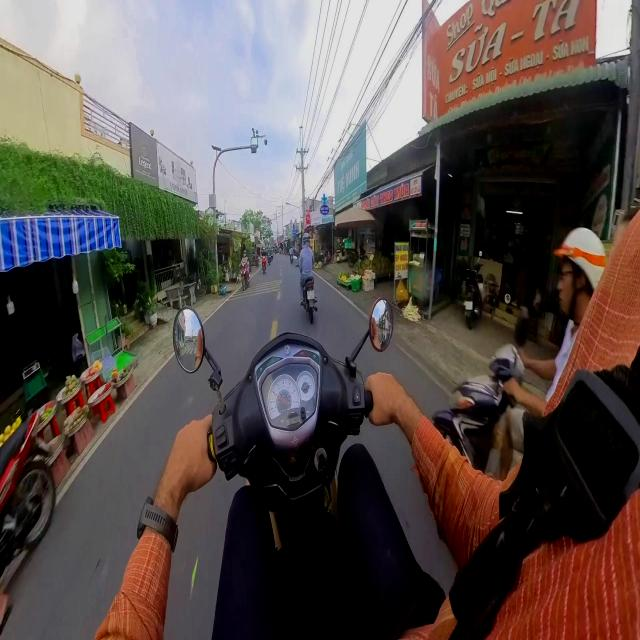motorcycle: (174, 299, 392, 638), (432, 345, 524, 471), (0, 413, 55, 573), (301, 277, 317, 324), (241, 262, 250, 290), (262, 256, 266, 273)
